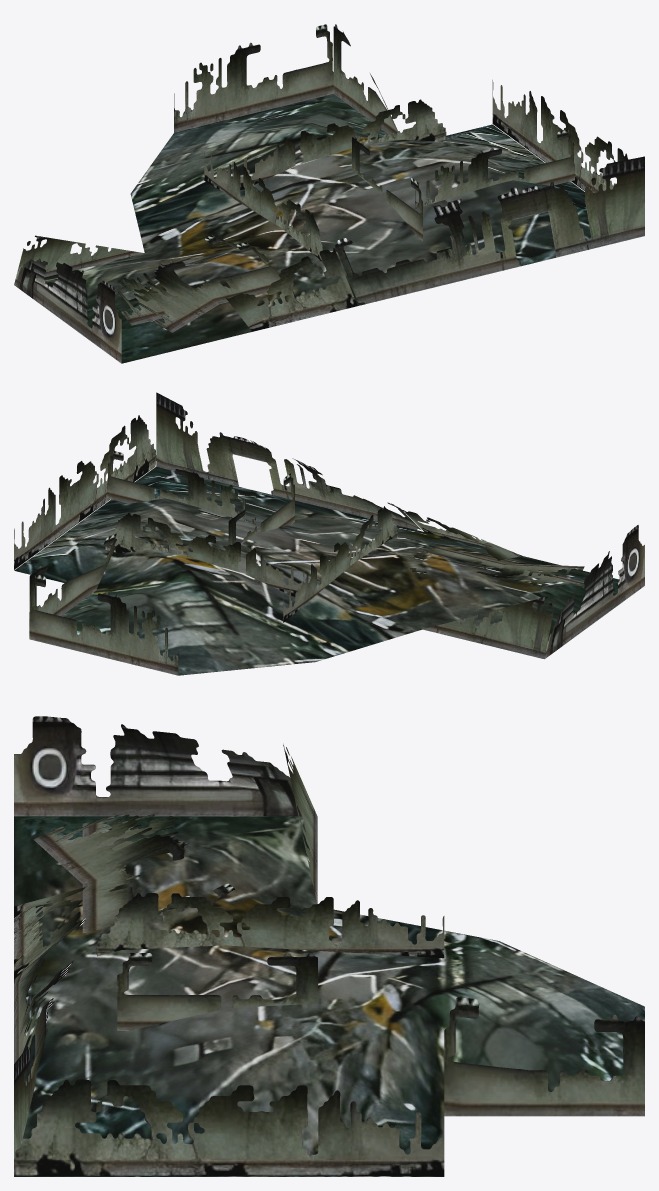
File: factorysm_dam_hdtex.glb
The picture shows the model from 3 angles, top to bottom: view 1: azimuth 30°, elevation 25°; view 2: azimuth 150°, elevation 25°; view 3: azimuth 270°, elevation 25°; orthographic projection. The views are drawn at different scales.
Visible parts, largest first — view 1: Object01; view 2: Object01; view 3: Object01.
Boxes of the visible parts, x1,y1,x2,y2 form: Object01: (14,24,644,363); Object01: (14,392,644,675); Object01: (14,716,644,1176).
Size of the model in its own units: 29.15 by 4.24 by 21.57.
2 materials, 2 textured.
